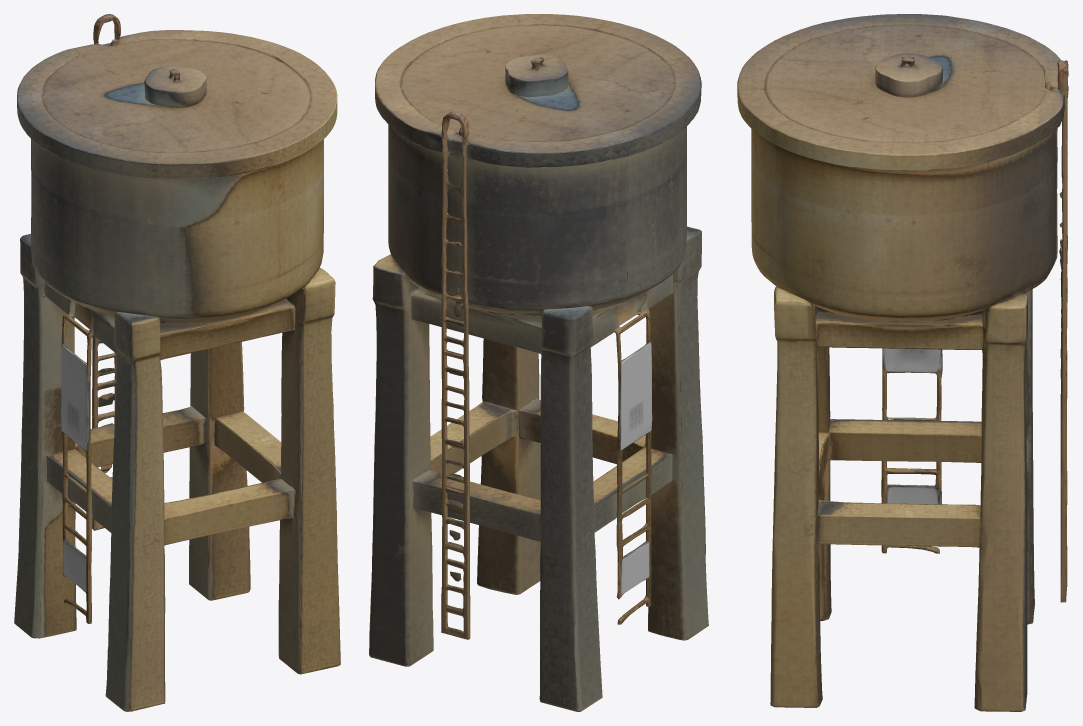
File: bld_kibbutz_water_tower.glb
3 views of the same model, side by side, from view 1: azimuth 30°, elevation 25°; view 2: azimuth 150°, elevation 25°; view 3: azimuth 270°, elevation 25° (orthographic). The views are drawn at different scales.
Parts seen in each view (by area): view 1: geometry_0; view 2: geometry_0; view 3: geometry_0.
Part boxes in pixels (x1,y1,x2,y2): geometry_0: (14,14,340,711); geometry_0: (369,14,708,711); geometry_0: (737,14,1068,711).
Bounding box in the file's own units: 9.15 × 18 × 9.05.
Materials: 1 (1 with a texture image).
